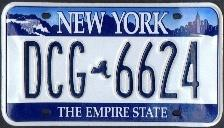2: (159, 40, 180, 98)
4: (181, 39, 205, 100)
6: (114, 39, 135, 99), (137, 40, 157, 99)
C: (46, 39, 65, 101)
D: (23, 38, 43, 100)
G: (67, 39, 89, 99)
